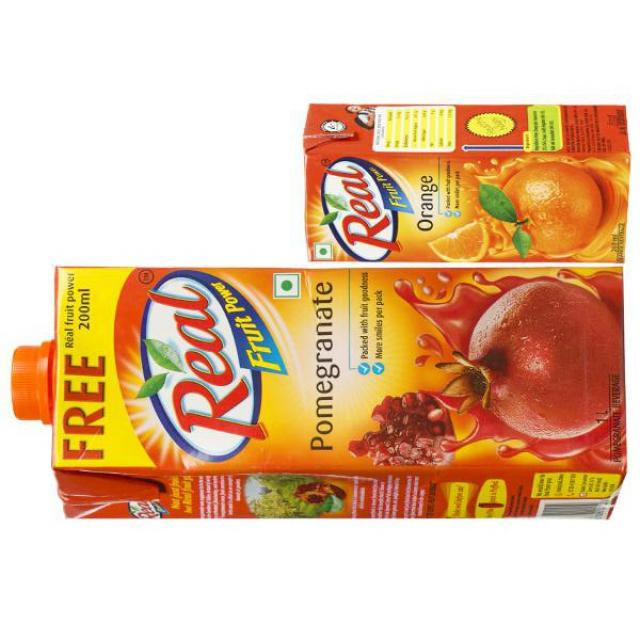non_white_jug: (9, 261, 630, 524), (300, 101, 629, 265)
